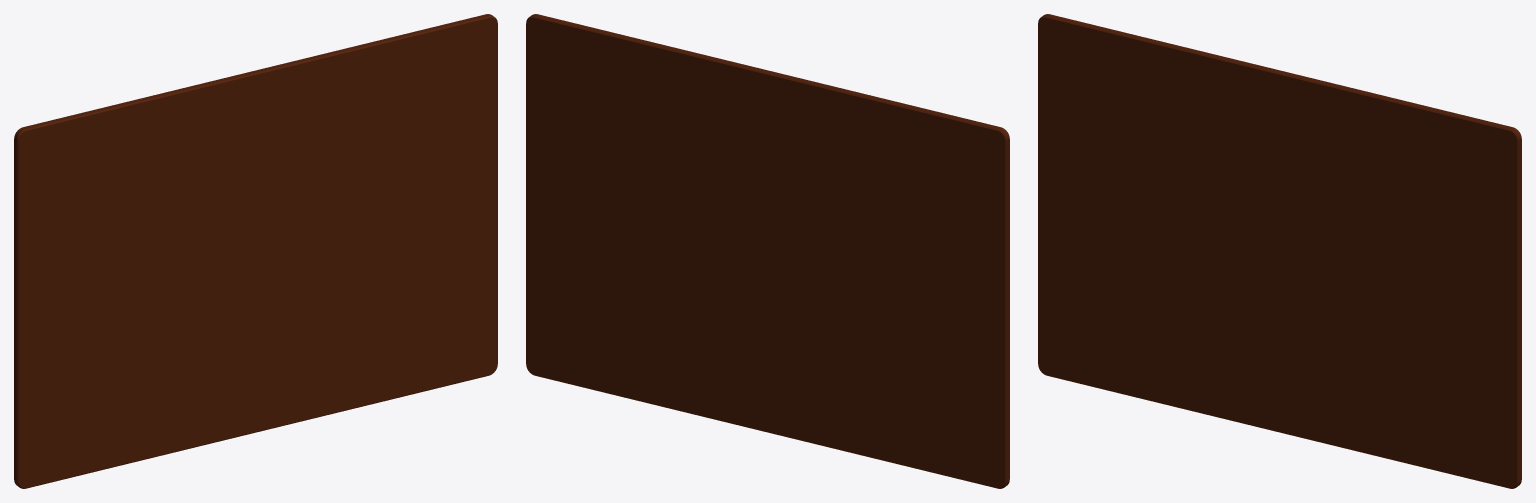
File: bedInner.obj
3 views of the same model, side by side, from view 1: azimuth 30°, elevation 25°; view 2: azimuth 150°, elevation 25°; view 3: azimuth 330°, elevation 25° (orthographic).
Visible parts, largest first — view 1: a_3DEA_GLASS_SHEET_2_PRT___.002; view 2: a_3DEA_GLASS_SHEET_2_PRT___.002; view 3: a_3DEA_GLASS_SHEET_2_PRT___.002.
Part boxes in pixels (x1=…): a_3DEA_GLASS_SHEET_2_PRT___.002: x1=14, y1=14, x2=497, y2=488; a_3DEA_GLASS_SHEET_2_PRT___.002: x1=526, y1=14, x2=1009, y2=488; a_3DEA_GLASS_SHEET_2_PRT___.002: x1=1038, y1=14, x2=1521, y2=488.
Size of the model in its own units: 210 by 150 by 3.
